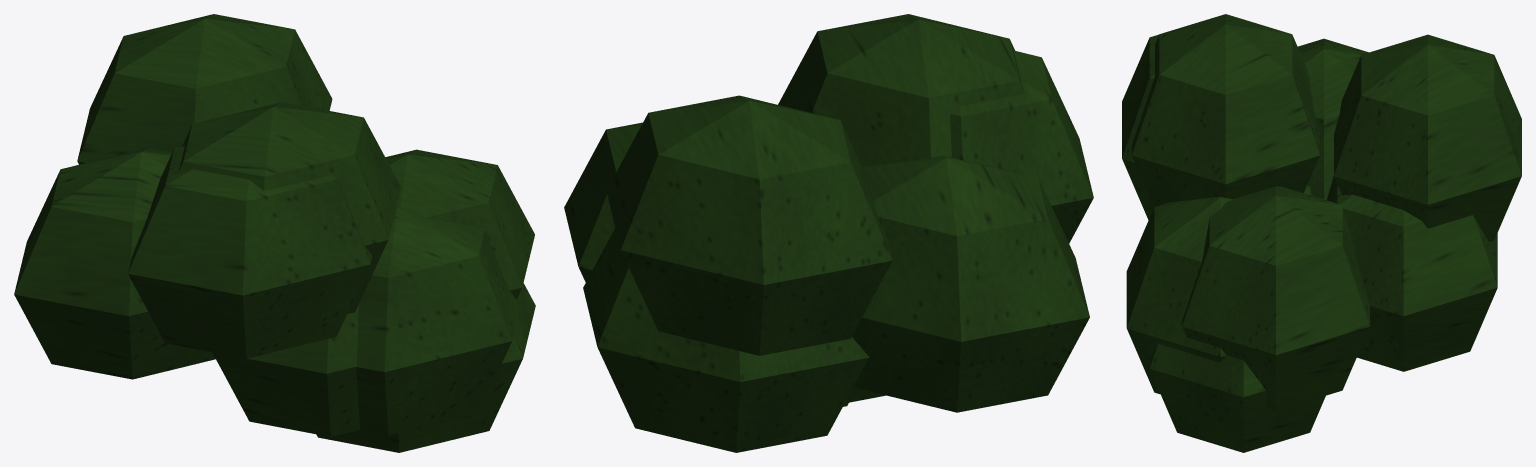
File: PROP-965FC320AF72_lod2.glb
3 views of the same model, side by side, from view 1: azimuth 30°, elevation 25°; view 2: azimuth 150°, elevation 25°; view 3: azimuth 270°, elevation 25° (orthographic). The views are drawn at different scales.
Visible parts, largest first — view 1: foliage.007; view 2: foliage.007; view 3: foliage.007.
Boxes of the visible parts, x1=… form: foliage.007: x1=14, y1=14, x2=535, y2=452; foliage.007: x1=564, y1=14, x2=1093, y2=452; foliage.007: x1=1122, y1=14, x2=1521, y2=452.
Bounding box in the file's own units: 1.16 × 0.8615 × 0.8841.
1 material, 1 textured.
